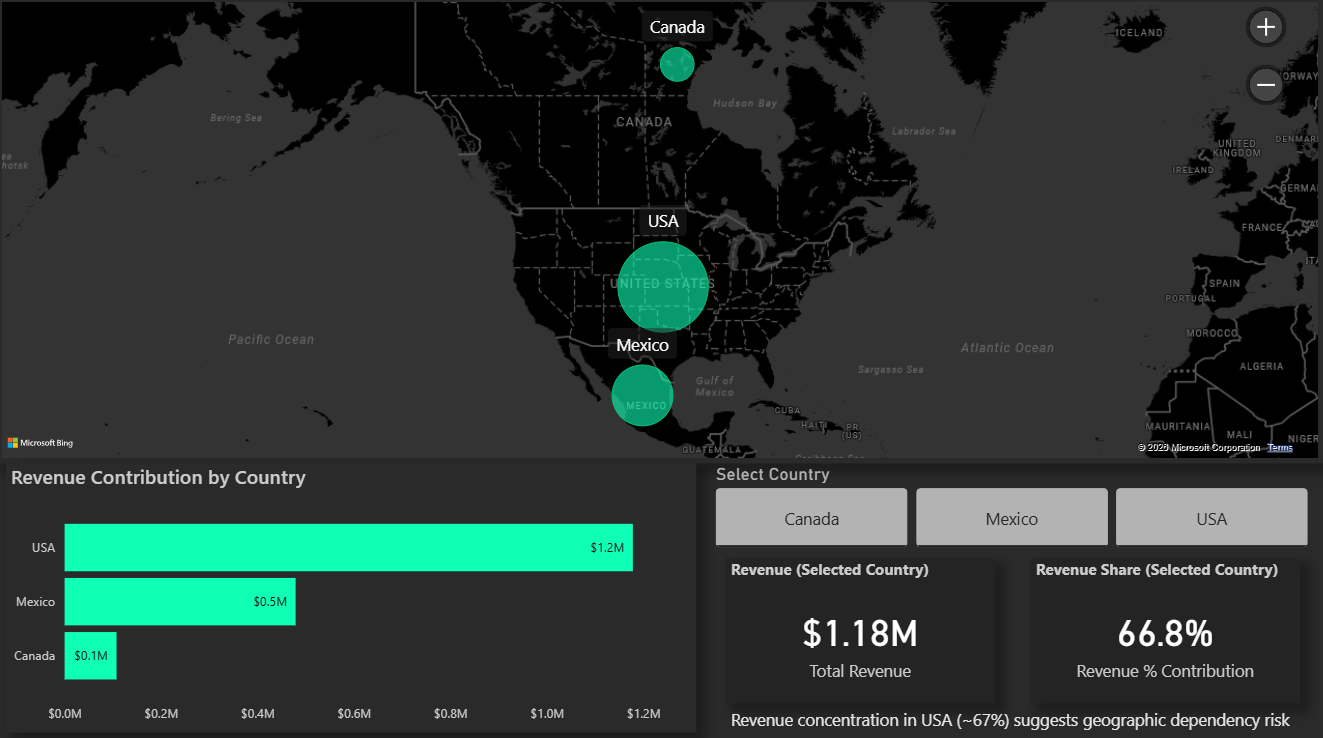

The page's visual inventory and layout, read from the dashboard file:
{"tool":"powerbi","page":{"name":"Geographic Analysis ","canvas":[1280,720],"ordinal":1},"visuals":[{"type":"map","fields":{"Category":["Customers.customer_country"],"Size":["Metrics.Total Revenue"]},"box":[0,0,1280,450],"z":0},{"type":"clusteredBarChart","title":"Revenue Contribution by Country","fields":{"Category":["Customers.customer_country"],"Y":["Metrics.Total Revenue"]},"box":[8.8,450,666.2,260],"z":1000},{"type":"card","title":"Revenue (Selected Country)","fields":{"Values":["Metrics.Total Revenue"]},"box":[703.8,541.2,260,140],"z":2000},{"type":"card","title":"Revenue Share (Selected Country)","fields":{"Values":["Metrics.Revenue % Contribution"]},"box":[997.5,541.2,260,140],"z":3000},{"type":"textbox","box":[703.4,681.6,576.7,38.6],"z":4000},{"type":"advancedSlicerVisual","title":"Select Country","fields":{"Values":["Customers.customer_country"]},"box":[688.8,450,581.2,86.2],"z":5000}]}

Visuals, with their boxes in screenshot pixels (x1, y1, x2, y2), scaled from the page's 1280x720 canvas onto the 1323x738 screenshot:
map - Customers.customer_country x Metrics.Total Revenue: 0/0/1322/461
"Revenue Contribution by Country" clusteredBarChart: 9/461/698/728
"Revenue (Selected Country)" card: 727/555/996/698
"Revenue Share (Selected Country)" card: 1031/555/1300/698
textbox: 727/699/1322/737
"Select Country" advancedSlicerVisual: 712/461/1313/550
